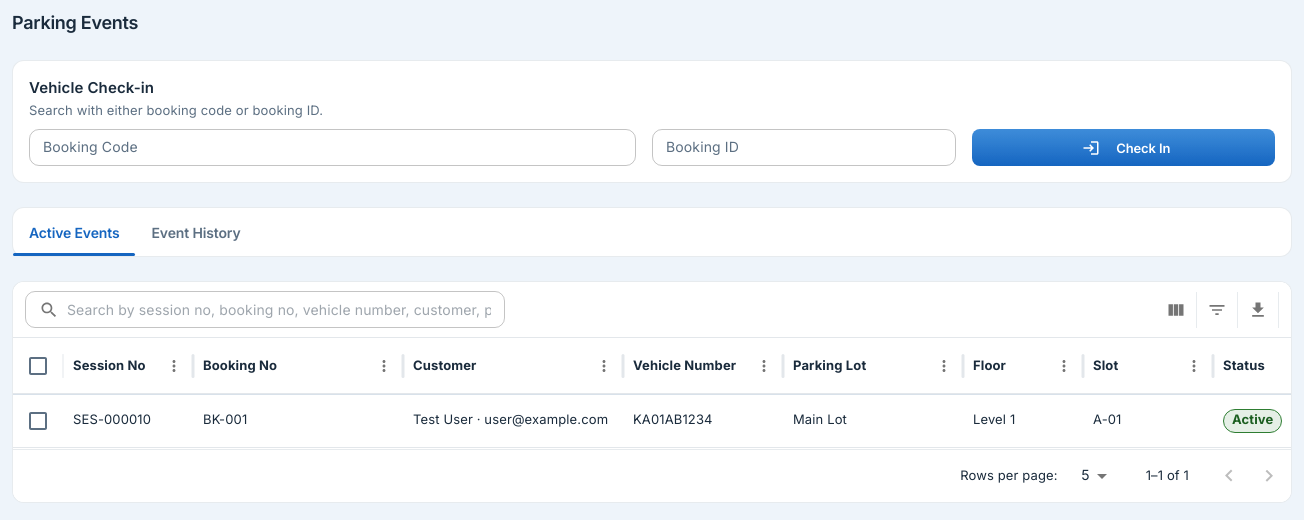
Scenario: ParkingEventsPage › shows event history tab for admin
The width and height of the screenshot is (1304, 520).
Expected: the text "BK-001" is shown, [203,412,247,428]
Click the tab "Event History".
click(196, 232)  # box [136,208,257,256]
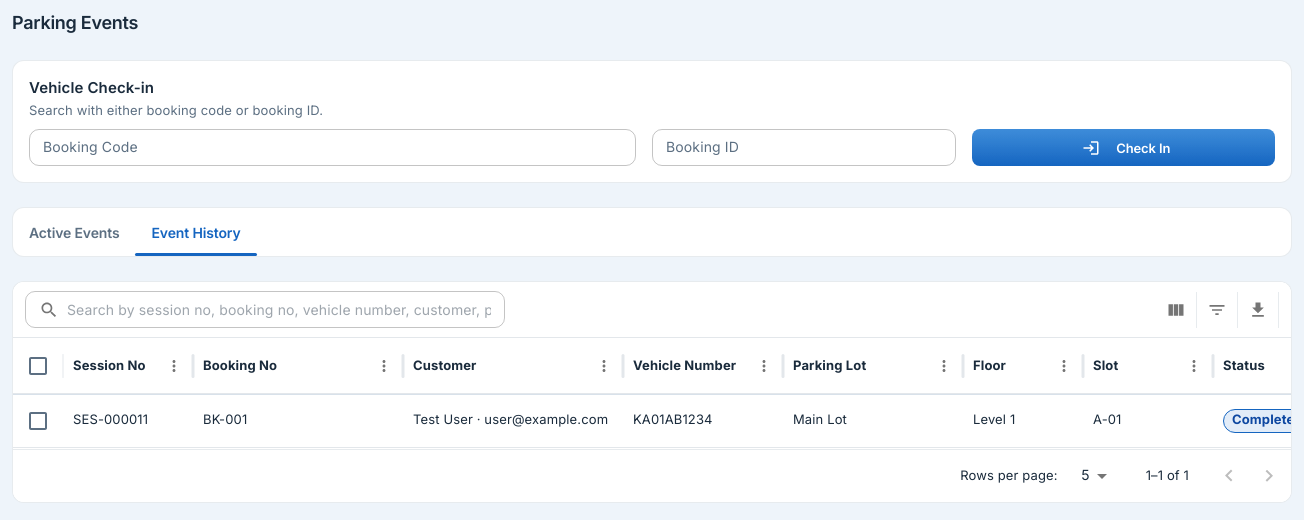
Now the text "SES-000011" is shown, box [73,412,148,428]
